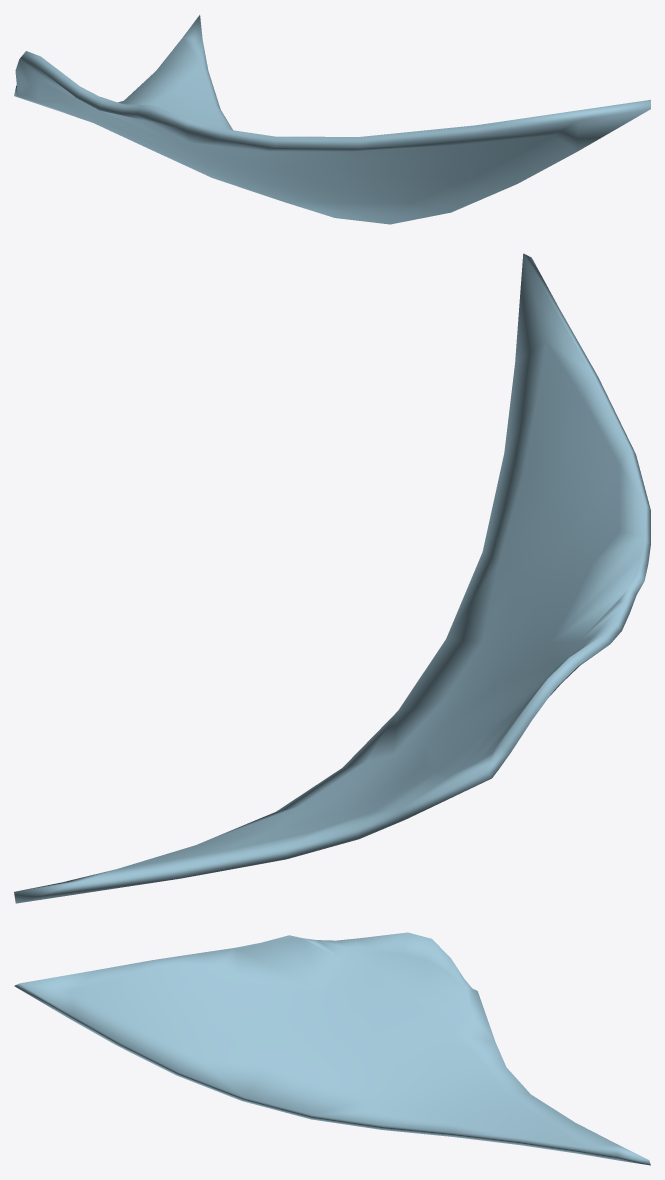
File: articulacoes-transverse-acetabular-ligament-l.glb
The picture shows the model from 3 angles, top to bottom: view 1: azimuth 30°, elevation 25°; view 2: azimuth 150°, elevation 25°; view 3: azimuth 270°, elevation 25°; orthographic projection. The views are drawn at different scales.
Visible parts, largest first — view 1: Transverse acetabular ligament.l; view 2: Transverse acetabular ligament.l; view 3: Transverse acetabular ligament.l.
Boxes of the visible parts, left/top/right/bottom form: Transverse acetabular ligament.l: left=14, top=15, right=650, bottom=224; Transverse acetabular ligament.l: left=14, top=253, right=650, bottom=903; Transverse acetabular ligament.l: left=14, top=932, right=650, bottom=1165.
Size of the model in its own units: 0.018 by 0.0136 by 0.0424.
